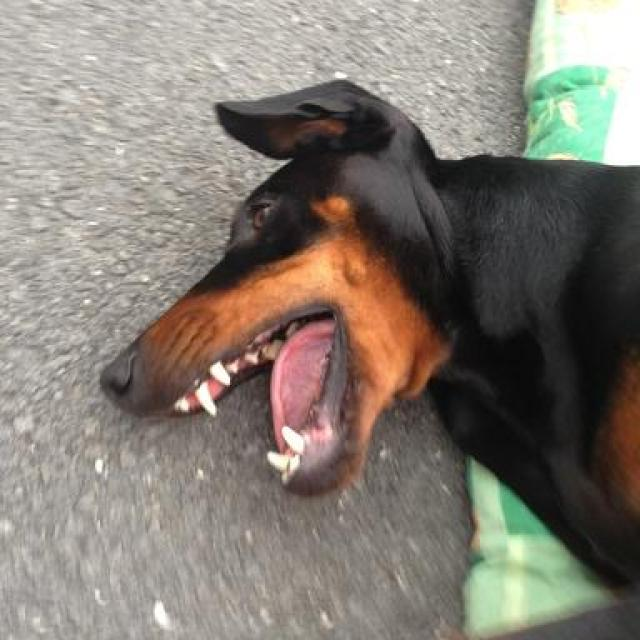angry: (67, 72, 640, 544)
